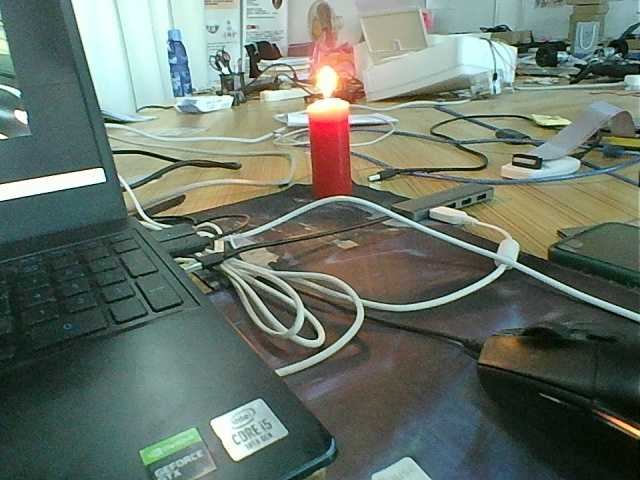candle: (302, 101, 359, 207)
fire: (304, 64, 339, 103)
